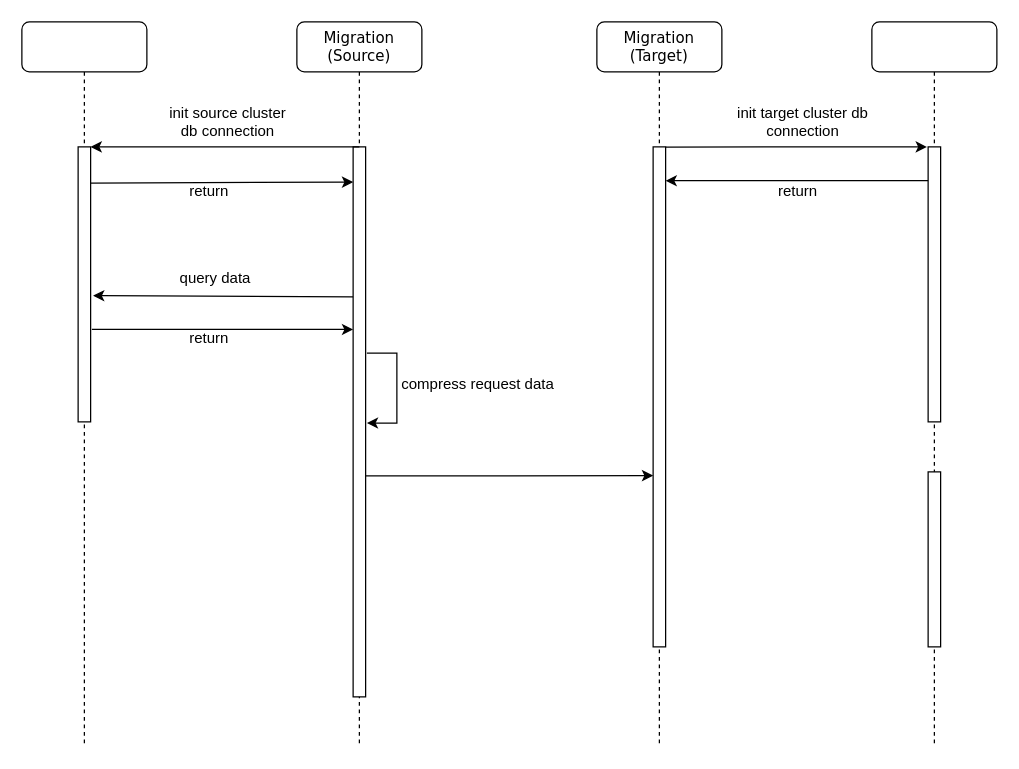
The diagram is 1019 pixels wide and 769 high, and some of its shapes have lost their labels. Each missing label, with the centre of its shape:
"DB (Source)" belongs at (84,384).
"DB (Target)" belongs at (934,384).
